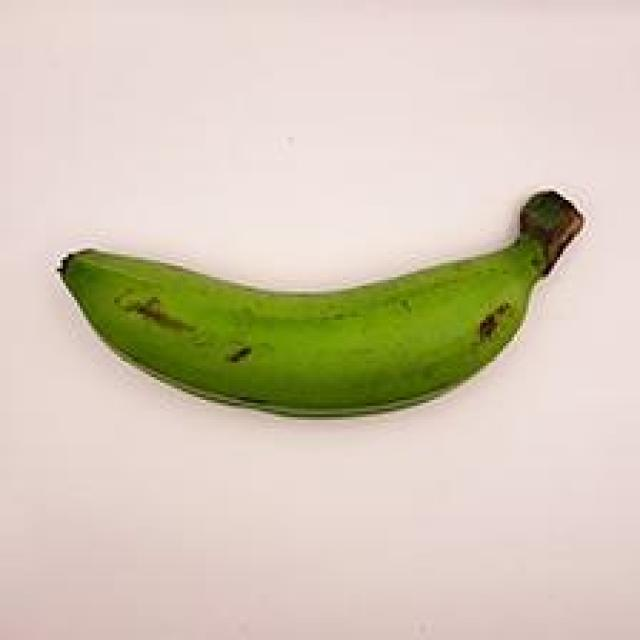Raw: (40, 162, 599, 438)
